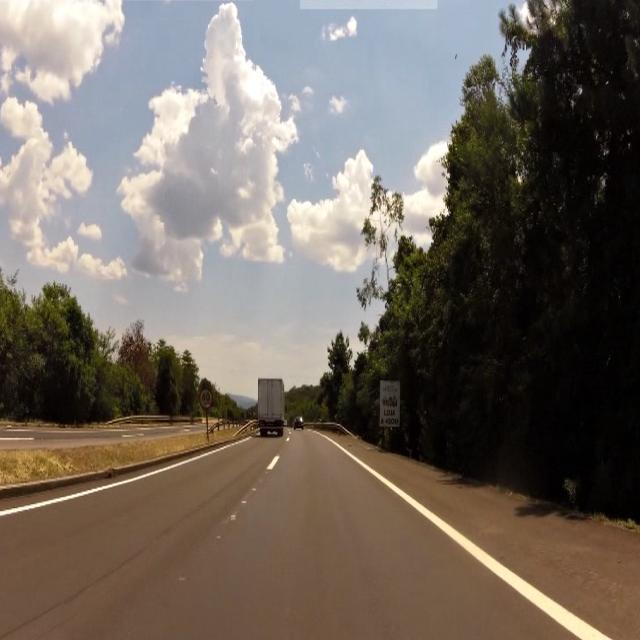R-19: (200, 388, 216, 411)
